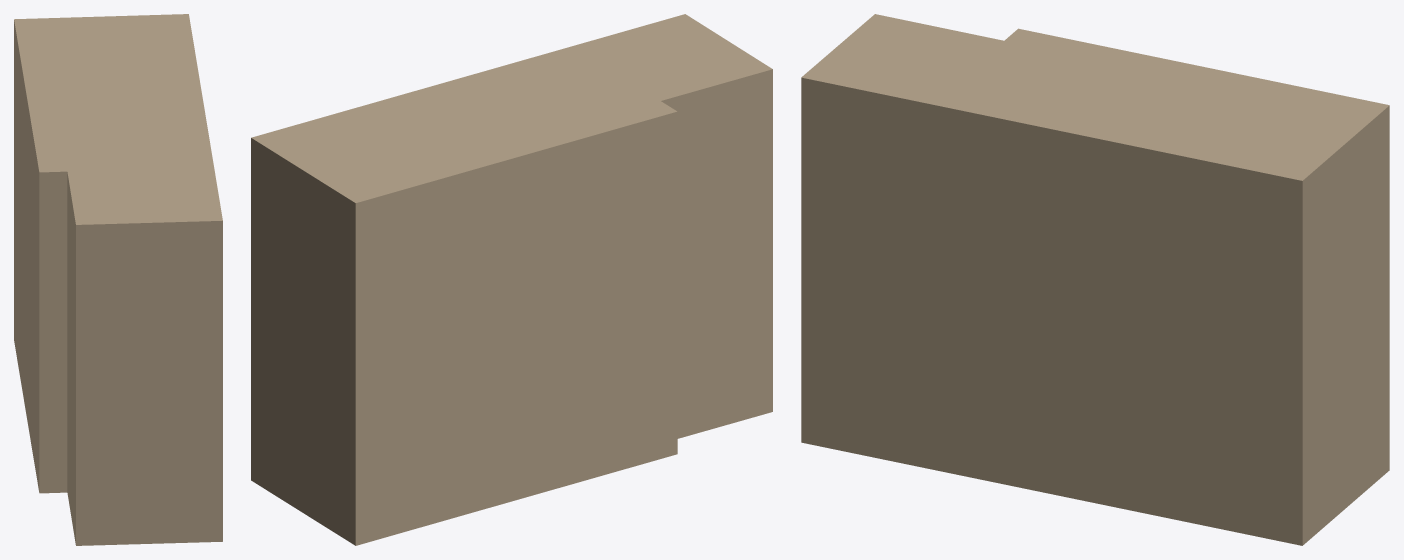
File: bld_99520034.dae
3 views of the same model, side by side, from view 1: azimuth 30°, elevation 25°; view 2: azimuth 150°, elevation 25°; view 3: azimuth 270°, elevation 25° (orthographic). The views are drawn at different scales.
Parts seen in each view (by area): view 1: bld_99520034; view 2: bld_99520034; view 3: bld_99520034.
Boxes of the visible parts, bbox=[...] form: bld_99520034: bbox=[14, 14, 222, 545]; bld_99520034: bbox=[251, 14, 772, 545]; bld_99520034: bbox=[801, 14, 1389, 545].
Bounding box in the file's own units: 7.85 × 11.69 × 8.
